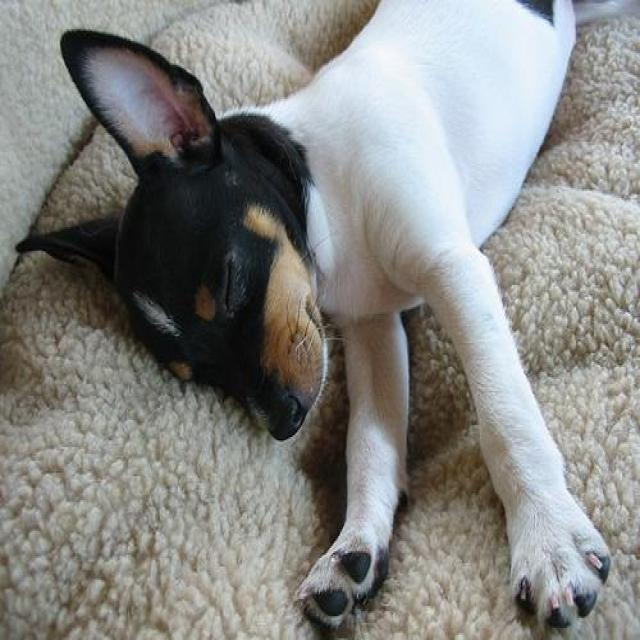toy_terrier: (16, 0, 614, 635)
